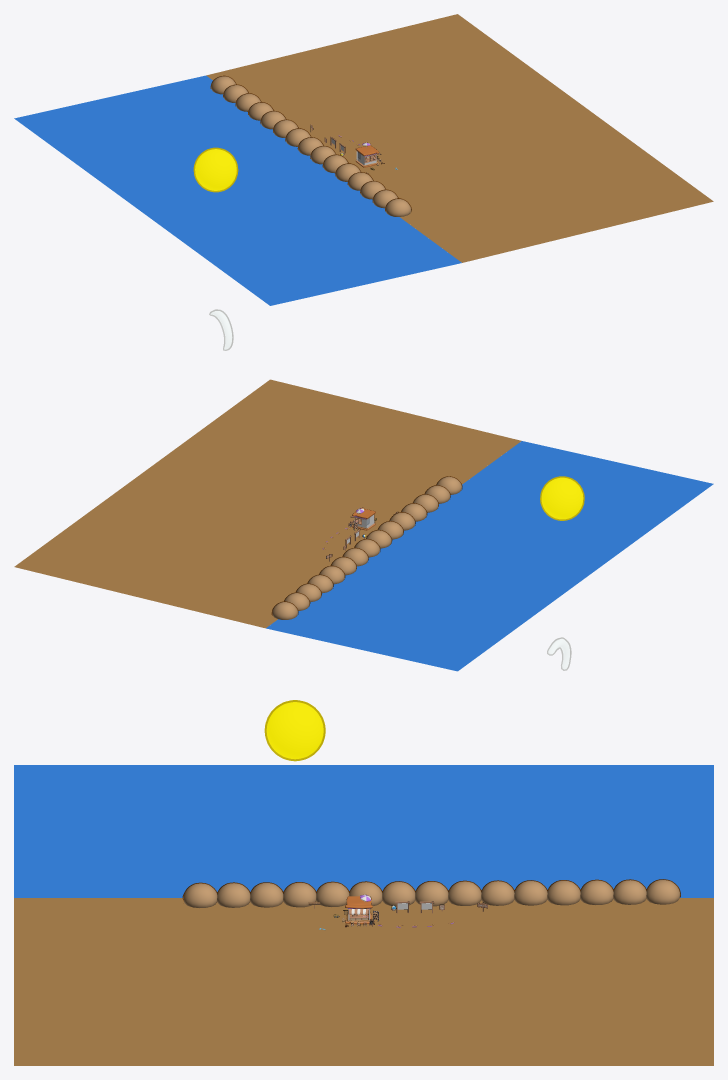
File: Capybara_Cafe.glb
3 views of the same model, one above another, from view 1: azimuth 30°, elevation 25°; view 2: azimuth 150°, elevation 25°; view 3: azimuth 270°, elevation 25° (orthographic). The views are drawn at different scales.
Visible parts, largest first — view 1: Cozy_Cafe, Sun; view 2: Cozy_Cafe, Sun, Moon; view 3: Cozy_Cafe, Sun.
Part boxes in pixels (<box>): Cozy_Cafe: <box>14,14,713,305</box>; Sun: <box>193,147,238,192</box>; Cozy_Cafe: <box>14,379,713,671</box>; Sun: <box>540,476,584,520</box>; Moon: <box>547,637,571,670</box>; Cozy_Cafe: <box>14,765,713,1065</box>; Sun: <box>264,700,325,761</box>.
Size of the model in its own units: 128 by 54.62 by 128.
Materials: 90 (6 with a texture image).
